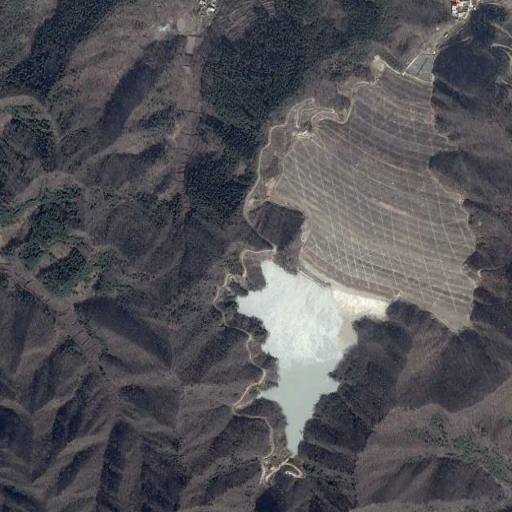tp: (241, 62, 479, 455)
